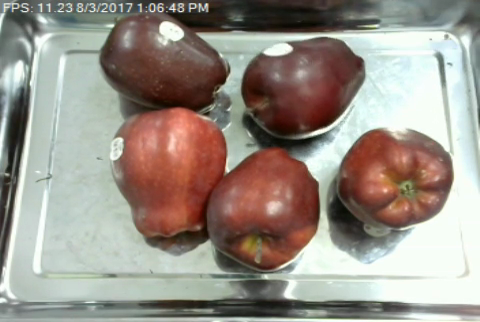Apple: (106, 105, 233, 246), (203, 143, 323, 277), (95, 8, 234, 114), (239, 35, 369, 142), (334, 121, 457, 232)
